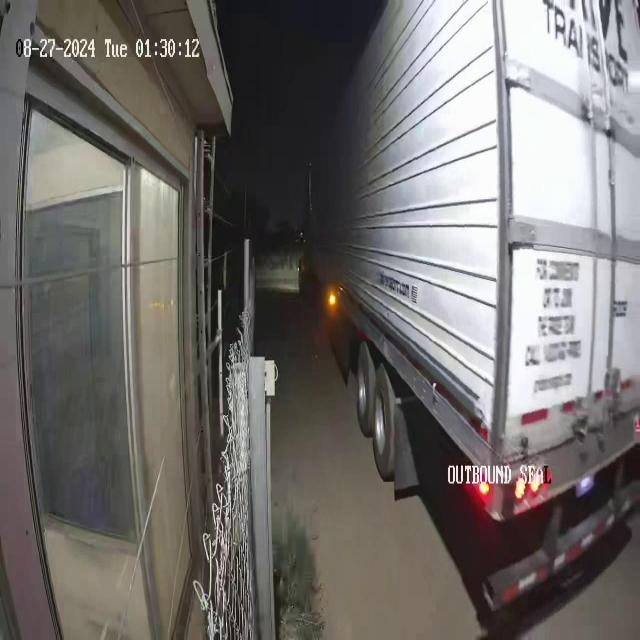TRUCK_OUT: (308, 1, 640, 632)
